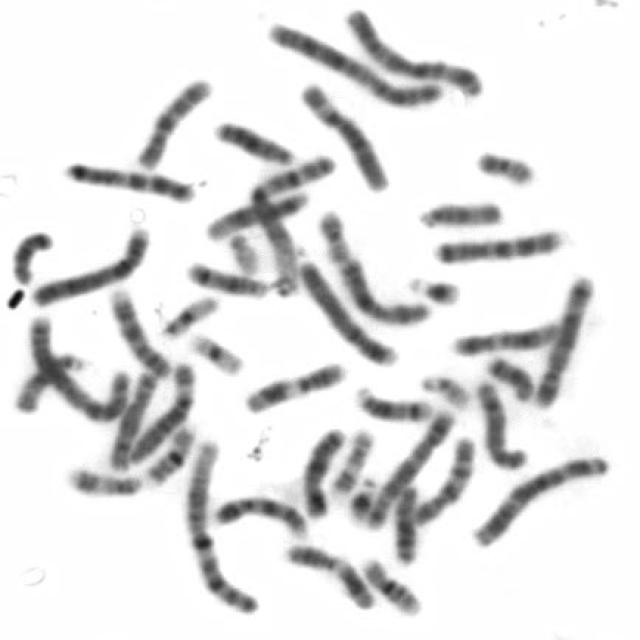A1: (178, 430, 262, 619), (243, 146, 341, 291)
A2: (262, 15, 450, 109), (21, 308, 131, 425)
A3: (463, 449, 613, 550), (338, 0, 487, 100)
B4: (294, 253, 401, 369), (27, 222, 154, 307)
B5: (360, 404, 457, 532), (526, 267, 599, 412)
C10: (128, 70, 215, 172), (408, 432, 478, 527)
C11: (279, 539, 379, 612), (236, 356, 348, 415)
C12: (199, 187, 311, 243), (447, 318, 568, 357)
C6: (292, 75, 392, 194), (124, 353, 199, 466)
C7: (58, 156, 198, 205), (426, 221, 566, 267)
C8: (102, 364, 162, 474), (469, 373, 531, 471)
C9: (103, 283, 173, 381), (206, 491, 310, 539)
D13: (206, 114, 300, 167), (388, 481, 423, 568)
D14: (180, 256, 270, 300), (348, 380, 437, 423)
D15: (6, 346, 88, 416), (412, 194, 504, 231)
E16: (356, 552, 424, 618), (140, 419, 199, 487)
E17: (327, 425, 376, 495), (60, 460, 144, 499)
E18: (4, 223, 56, 286), (481, 350, 537, 404)
F19: (183, 325, 246, 377), (158, 292, 221, 341)
F20: (469, 142, 540, 190), (312, 204, 352, 266)
G21: (401, 268, 463, 306), (340, 473, 380, 530)
G22: (414, 367, 470, 411), (224, 228, 263, 277)
X: (330, 256, 428, 328), (296, 420, 348, 520)
